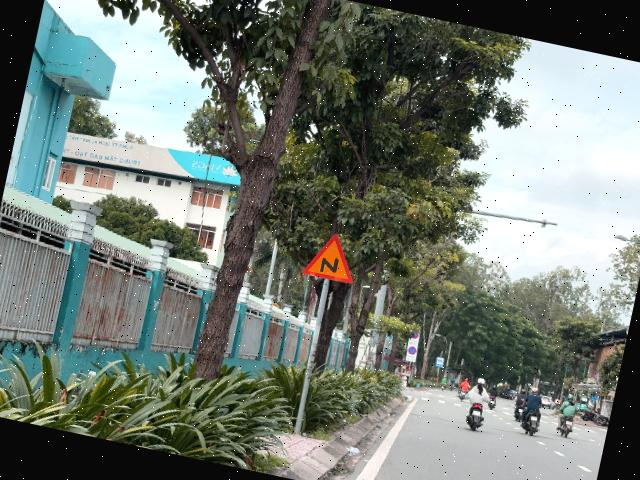nhieu-cho-ngoat-nguy-hiem-lien-tiep: (301, 229, 362, 285)
